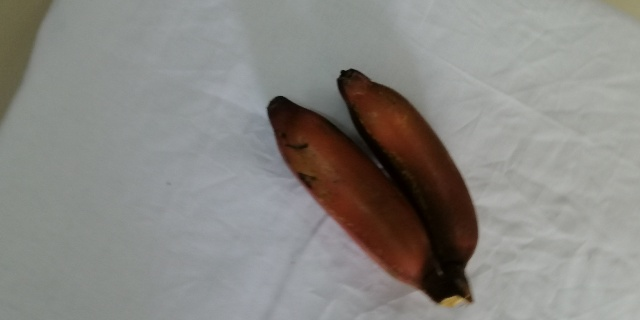banana_red: (266, 95, 457, 305), (336, 68, 478, 305)
